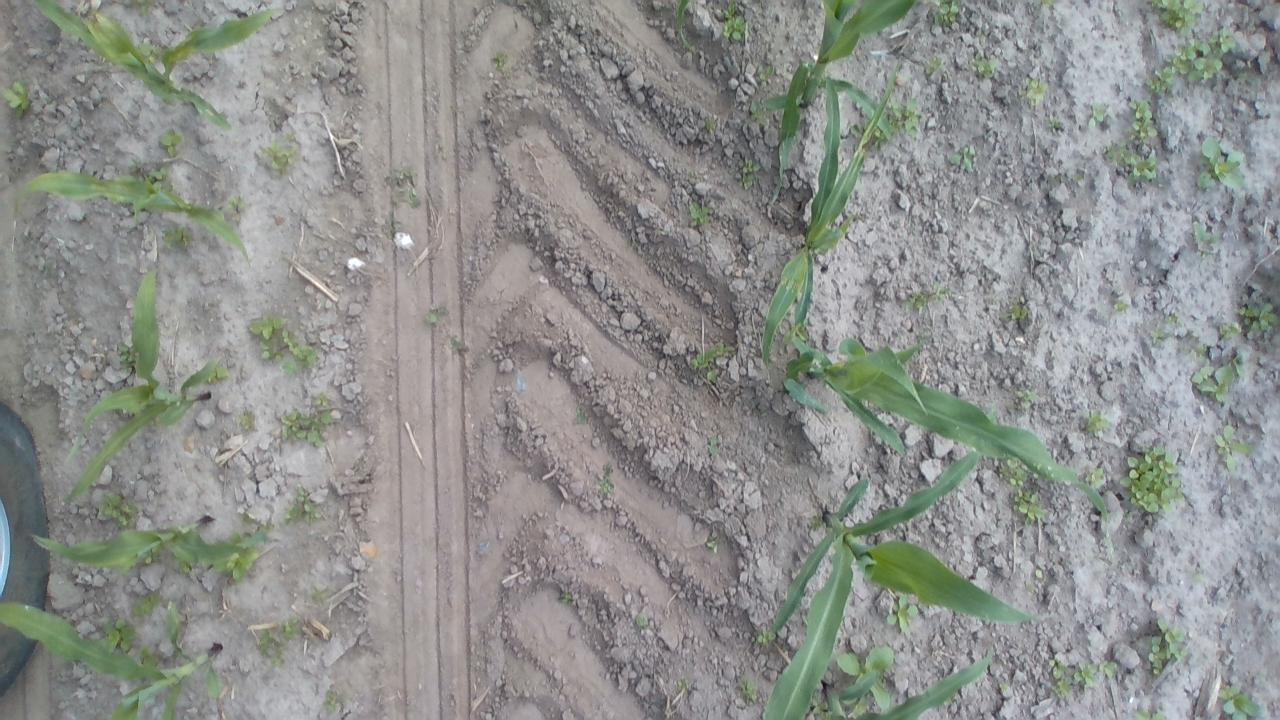Maize: (749, 409, 1039, 720), (782, 327, 1110, 524), (672, 0, 922, 215), (759, 56, 902, 367), (68, 270, 222, 503), (31, 0, 278, 130), (0, 601, 226, 720), (11, 169, 252, 268), (33, 516, 268, 572), (817, 648, 997, 720)
Weeds: (1118, 444, 1186, 514), (836, 644, 895, 717), (1165, 26, 1236, 82), (1197, 137, 1245, 189), (1191, 354, 1245, 400), (1102, 140, 1158, 184), (1148, 618, 1187, 676), (279, 408, 333, 448), (1150, 0, 1204, 36), (1216, 425, 1254, 471), (213, 547, 260, 584), (882, 96, 921, 138), (282, 326, 316, 374), (99, 492, 140, 530), (1218, 683, 1260, 720), (886, 592, 920, 633), (284, 487, 320, 525), (96, 618, 136, 652), (1126, 99, 1156, 144), (1012, 488, 1045, 528), (0, 78, 32, 117), (1239, 302, 1280, 332), (690, 342, 734, 369), (248, 312, 288, 340), (260, 140, 296, 170), (1191, 218, 1218, 256), (998, 456, 1030, 487), (136, 165, 174, 191), (1017, 76, 1048, 107), (1049, 656, 1073, 696), (1144, 66, 1176, 94), (1083, 408, 1111, 437), (162, 225, 192, 251), (158, 127, 184, 157), (970, 52, 1000, 78), (239, 512, 274, 534), (1008, 388, 1036, 414), (134, 591, 163, 616), (740, 154, 760, 190), (136, 643, 162, 669), (950, 146, 976, 172), (934, 0, 959, 27), (116, 341, 137, 373), (722, 14, 746, 42), (324, 688, 349, 714), (688, 202, 712, 227), (1086, 100, 1106, 130), (1074, 662, 1098, 687), (136, 41, 162, 64), (738, 676, 759, 704), (1084, 464, 1108, 488), (140, 543, 164, 565), (258, 340, 282, 362), (756, 62, 778, 86), (205, 363, 230, 384), (870, 125, 889, 152), (398, 186, 421, 208), (905, 290, 928, 312), (810, 696, 831, 720), (280, 616, 302, 638), (424, 303, 448, 323), (930, 282, 950, 305), (258, 626, 274, 654), (849, 117, 870, 138), (174, 554, 194, 576), (1002, 304, 1028, 320), (270, 643, 286, 668), (1220, 321, 1242, 339), (754, 627, 776, 645), (1150, 327, 1170, 346), (749, 99, 768, 119), (924, 55, 944, 74), (308, 587, 326, 608), (238, 409, 255, 430), (226, 194, 246, 211), (795, 318, 809, 342), (1134, 709, 1164, 720), (597, 476, 615, 494), (384, 218, 398, 240), (1046, 114, 1062, 132), (1099, 660, 1116, 676), (395, 166, 417, 178), (493, 52, 508, 68), (709, 436, 720, 457), (704, 117, 718, 133), (705, 540, 721, 554), (313, 393, 330, 406), (1113, 300, 1131, 312), (137, 0, 151, 15), (676, 676, 690, 691), (576, 406, 588, 423), (723, 2, 737, 16), (634, 614, 648, 628), (812, 515, 823, 531), (1192, 572, 1204, 586), (559, 591, 572, 603), (917, 332, 930, 344), (1193, 345, 1207, 356), (706, 370, 716, 382), (451, 338, 462, 348), (1026, 582, 1036, 593), (1000, 681, 1009, 692), (1041, 0, 1054, 7), (1168, 314, 1178, 323), (284, 133, 294, 141), (1035, 568, 1043, 578)
